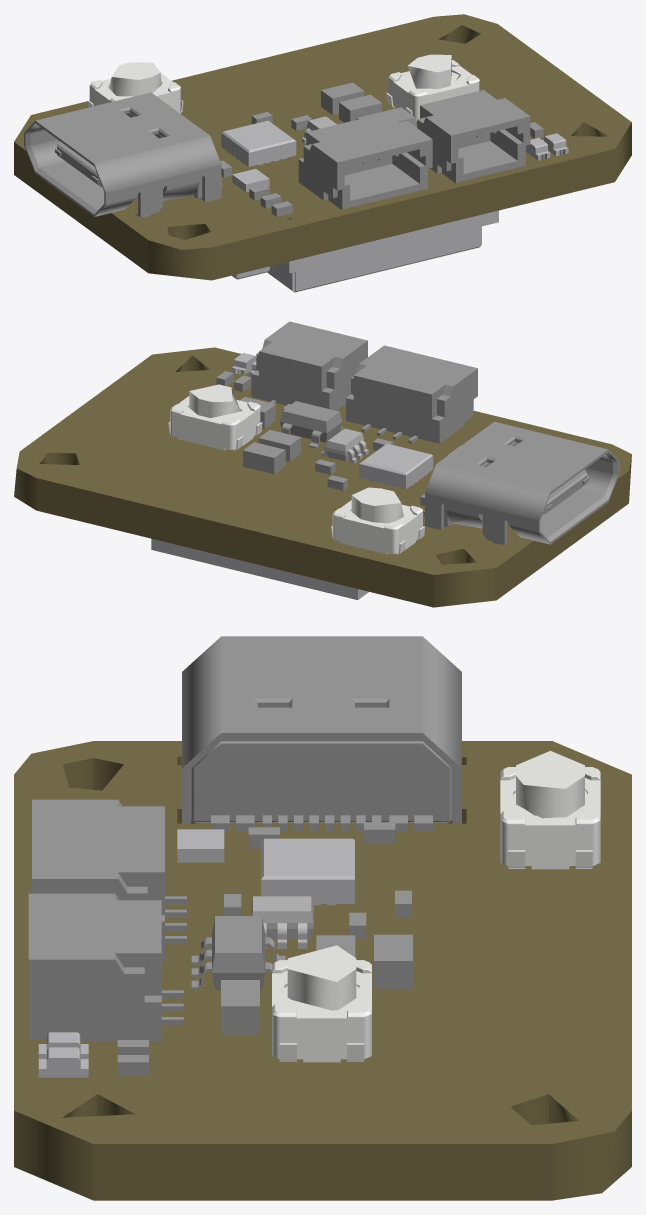
Rendered from ada-6160.glb.
3 views of the same model, one above another, from view 1: azimuth 30°, elevation 25°; view 2: azimuth 150°, elevation 25°; view 3: azimuth 270°, elevation 25° (orthographic). The views are drawn at different scales.
Visible parts, largest first — view 1: 0.16666666666666666_0.16666666666666666_0.08333333333333333_, 0.3333333333333333_0.3333333333333333_0.3333333333333333_0, 0.5833333333333334_0.5833333333333334_0.5833333333333334_0.8, 0.9166666666666666_0.9166666666666666_0.9166666666666666_0.8; view 2: 0.16666666666666666_0.16666666666666666_0.08333333333333333_, 0.3333333333333333_0.3333333333333333_0.3333333333333333_0, 0.9166666666666666_0.9166666666666666_0.9166666666666666_0.8, 0.5833333333333334_0.5833333333333334_0.5833333333333334_0.8, 0.5_0.5_0.5_0.85; view 3: 0.16666666666666666_0.16666666666666666_0.08333333333333333_, 0.3333333333333333_0.3333333333333333_0.3333333333333333_0, 0.9166666666666666_0.9166666666666666_0.9166666666666666_0.8, 0.5833333333333334_0.5833333333333334_0.5833333333333334_0.8, 0.5_0.5_0.5_0.85.
Boxes of the visible parts, x1,y1,x2,y2 form: 0.16666666666666666_0.16666666666666666_0.08333333333333333_: (14,14,631,280); 0.3333333333333333_0.3333333333333333_0.3333333333333333_0: (24,82,543,217); 0.5833333333333334_0.5833333333333334_0.5833333333333334_0.8: (221,120,568,292); 0.9166666666666666_0.9166666666666666_0.9166666666666666_0.8: (87,54,479,121); 0.16666666666666666_0.16666666666666666_0.08333333333333333_: (14,347,631,607); 0.3333333333333333_0.3333333333333333_0.3333333333333333_0: (216,321,619,544); 0.9166666666666666_0.9166666666666666_0.9166666666666666_0.8: (168,384,424,554); 0.5833333333333334_0.5833333333333334_0.5833333333333334_0.8: (151,353,460,599); 0.5_0.5_0.5_0.85: (321,428,368,463); 0.16666666666666666_0.16666666666666666_0.08333333333333333_: (14,741,631,1200); 0.3333333333333333_0.3333333333333333_0.3333333333333333_0: (28,636,461,1076); 0.9166666666666666_0.9166666666666666_0.9166666666666666_0.8: (272,751,600,1062); 0.5833333333333334_0.5833333333333334_0.5833333333333334_0.8: (38,829,354,1077); 0.5_0.5_0.5_0.85: (251,896,313,948).
Size of the model in its own units: 3.15 by 0.774 by 1.97.
